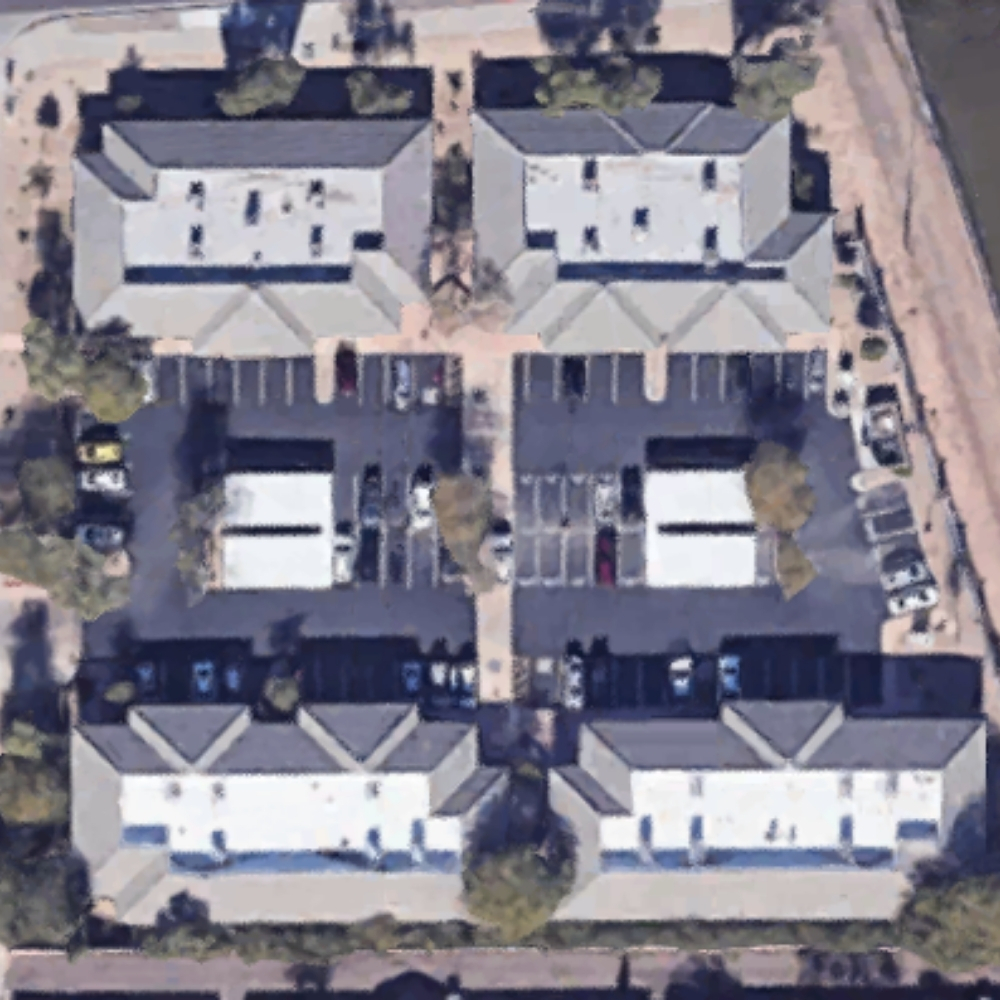parking: (515, 355, 945, 715), (75, 355, 480, 705)
